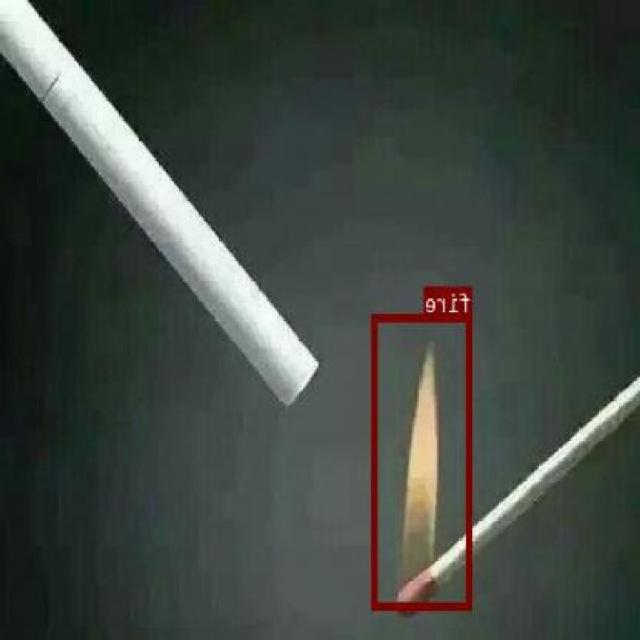fire: (372, 313, 474, 609)
